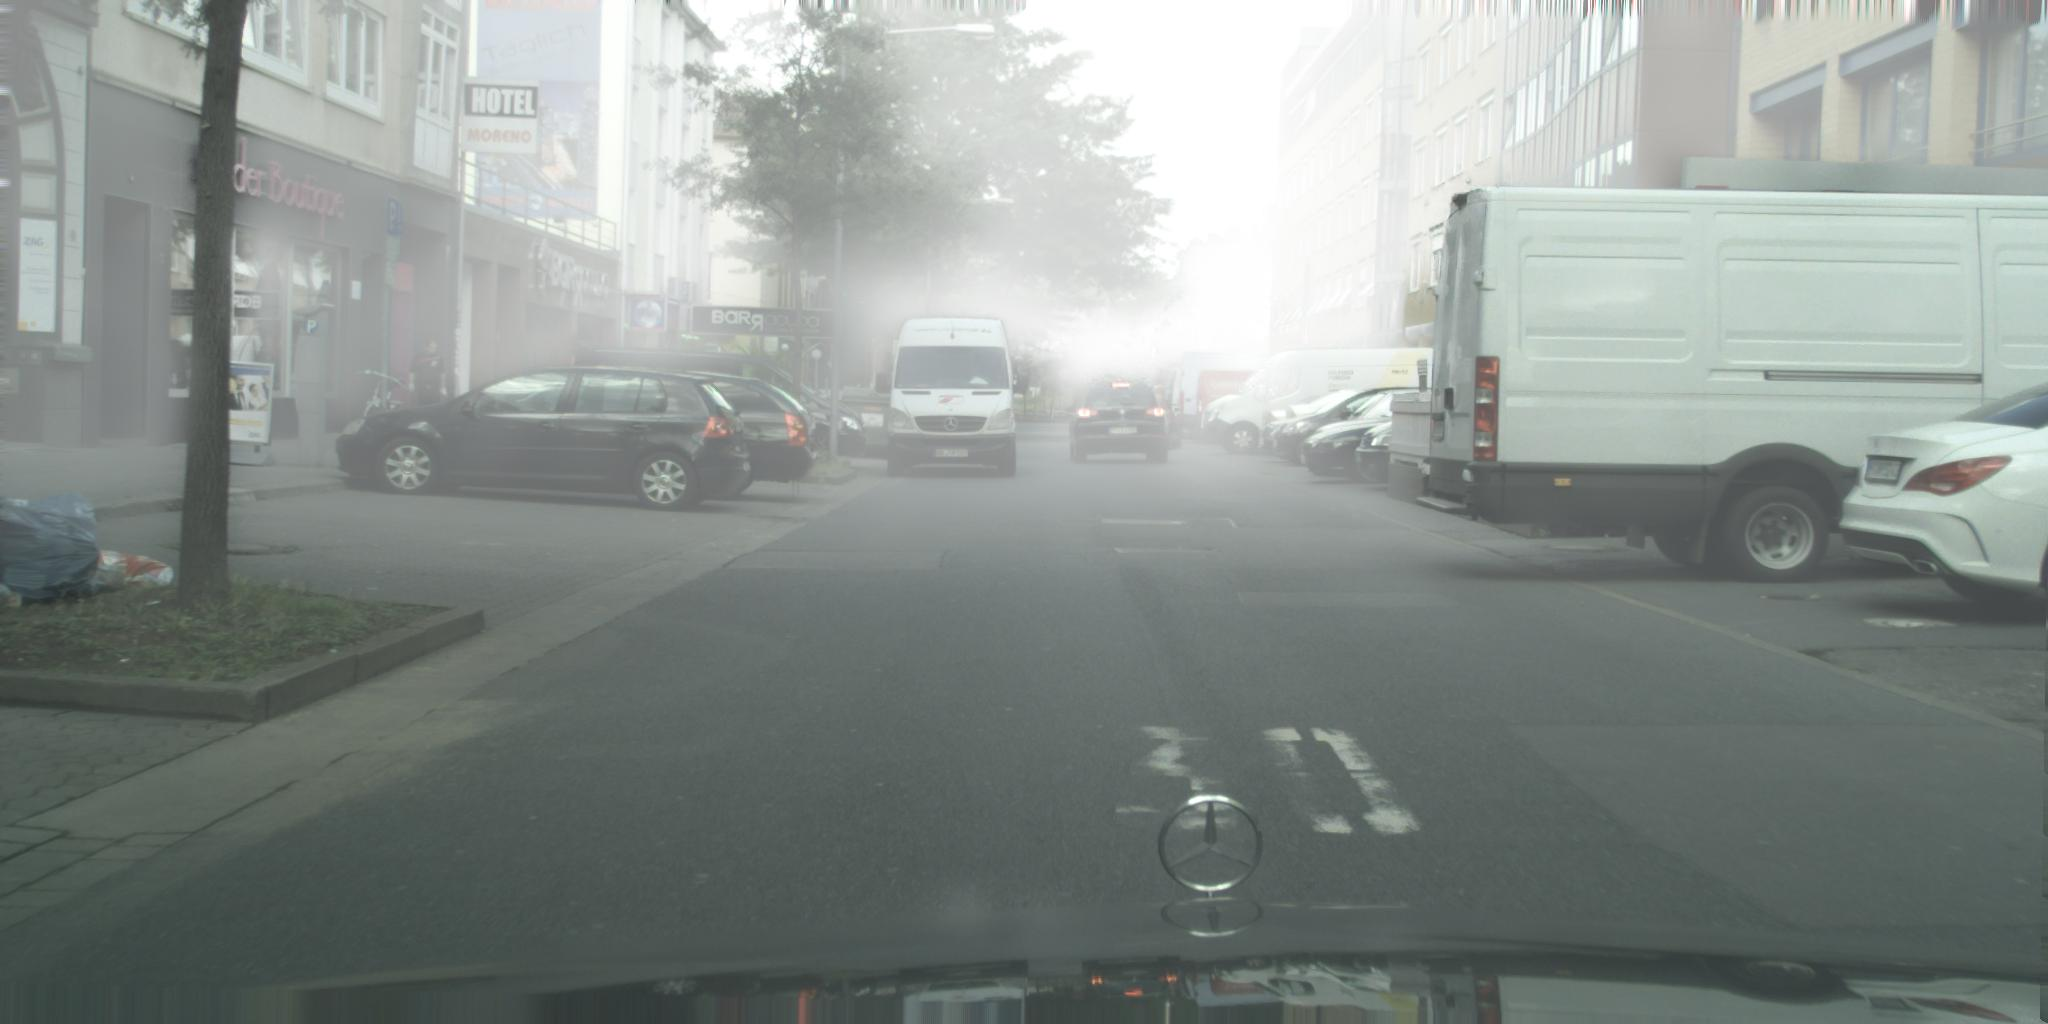bicycle: (355, 368, 410, 426)
car: (1415, 185, 2048, 585), (334, 367, 754, 513), (1839, 381, 2048, 626), (552, 367, 819, 502), (569, 345, 869, 458), (1202, 349, 1438, 456), (876, 317, 1032, 478), (1064, 379, 1176, 465), (1356, 415, 1480, 486), (1304, 421, 1401, 485), (1194, 370, 1266, 438), (1136, 394, 1183, 451), (1138, 387, 1179, 414)
